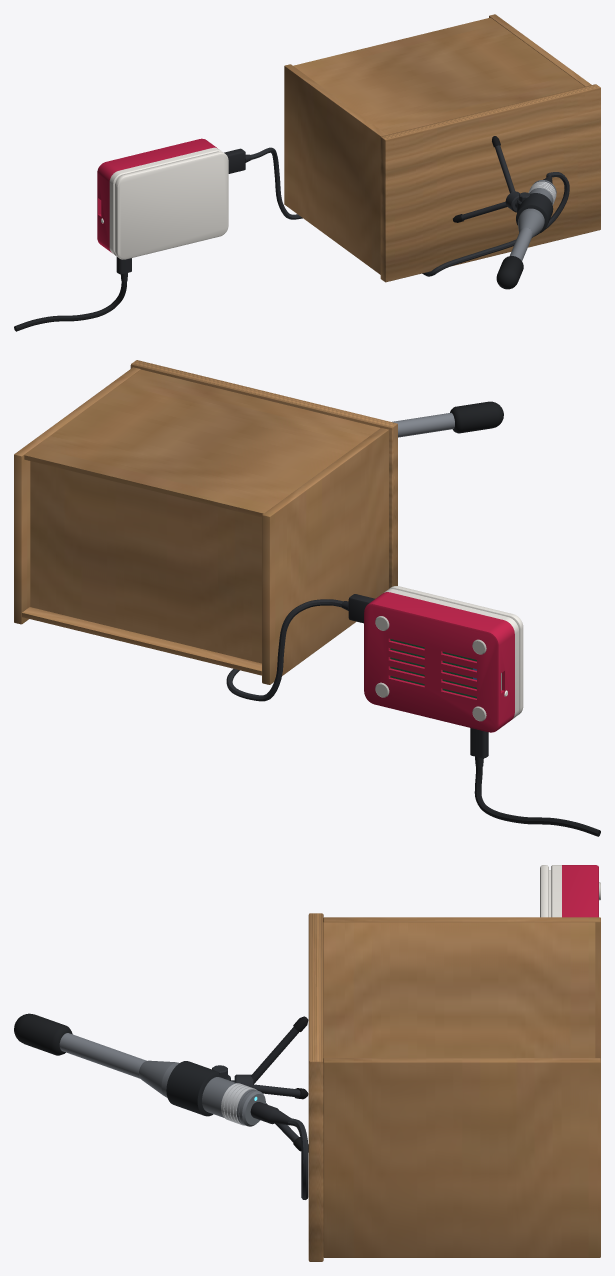
Rendered from noise-logger.glb.
3 renders of one model, top to bottom at view 1: azimuth 30°, elevation 25°; view 2: azimuth 150°, elevation 25°; view 3: azimuth 270°, elevation 25°, orthographic. The views are drawn at different scales.
Visible parts, largest first — view 1: shelf, shelf__back, shelf__side, case_lid, case_base, cable__usb, case_frame, cable__power, mic__foam, mic__clip, mic__leg, mic__cone (+2 smaller); view 2: shelf__board, shelf__back, shelf__side, case_base, shelf, cable__usb, mic__foam, cable__power, case_lid, case_frame, mic__tube, board (+1 smaller); view 3: shelf__side, shelf__back, shelf, case_base, mic__clip, mic__tube, mic, mic__foam, mic__leg, mic__ring, mic__cone, cable__usb (+3 smaller).
Boxes of the visible parts, <box> form: shelf: <box>380,84,600,282</box>; shelf__back: <box>293,17,584,134</box>; shelf__side: <box>284,14,591,274</box>; case_lid: <box>115,151,228,259</box>; case_base: <box>97,138,217,252</box>; cable__usb: <box>250,147,569,276</box>; case_frame: <box>109,147,222,255</box>; cable__power: <box>14,281,127,331</box>; mic__foam: <box>496,256,523,289</box>; mic__clip: <box>516,193,553,234</box>; mic__leg: <box>461,145,514,220</box>; mic__cone: <box>518,211,543,237</box>; shelf__board: <box>22,461,261,675</box>; shelf__back: <box>24,369,380,517</box>; shelf__side: <box>14,367,388,684</box>; case_base: <box>364,592,514,732</box>; shelf: <box>130,360,397,588</box>; cable__usb: <box>226,599,342,701</box>; mic__foam: <box>450,401,503,433</box>; cable__power: <box>474,767,600,836</box>; case_lid: <box>388,586,523,715</box>; case_frame: <box>384,589,518,719</box>; mic__tube: <box>392,412,454,437</box>; board: <box>390,639,476,698</box>; shelf__side: <box>323,917,600,1257</box>; shelf__back: <box>323,922,595,1057</box>; shelf: <box>308,913,323,1261</box>; case_base: <box>562,865,598,917</box>; mic__clip: <box>166,1061,220,1116</box>; mic__tube: <box>59,1033,146,1078</box>; mic: <box>161,1062,265,1126</box>; mic__foam: <box>14,1013,72,1055</box>; mic__leg: <box>251,1027,300,1142</box>; mic__ring: <box>221,1083,257,1125</box>; mic__cone: <box>139,1060,176,1096</box>; cable__usb: <box>288,1118,308,1199</box>.
Size of the model in its own units: 426 by 173 by 317.
Materials: 43 (1 with a texture image).
